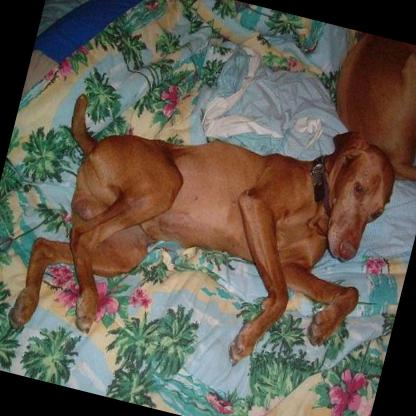vizsla: (3, 55, 406, 410)
